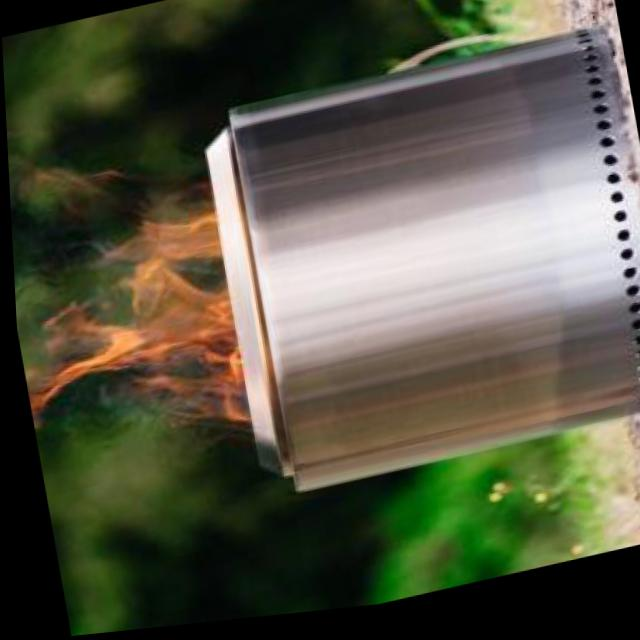Fire: (8, 177, 254, 457)
